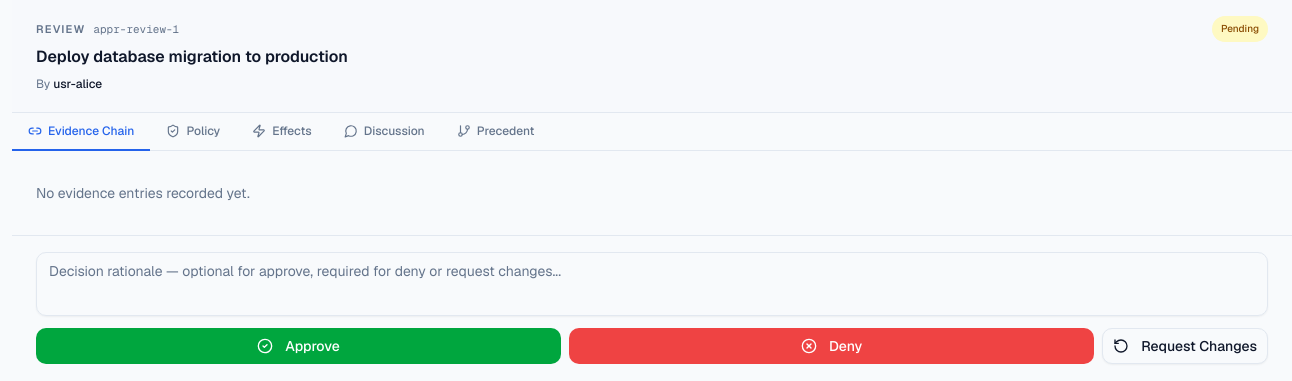
Test: ApprovalReviewPanel — tabs › switches to policy tab on click
Click the tab "Policy": (193, 132) [150,113,236,151]
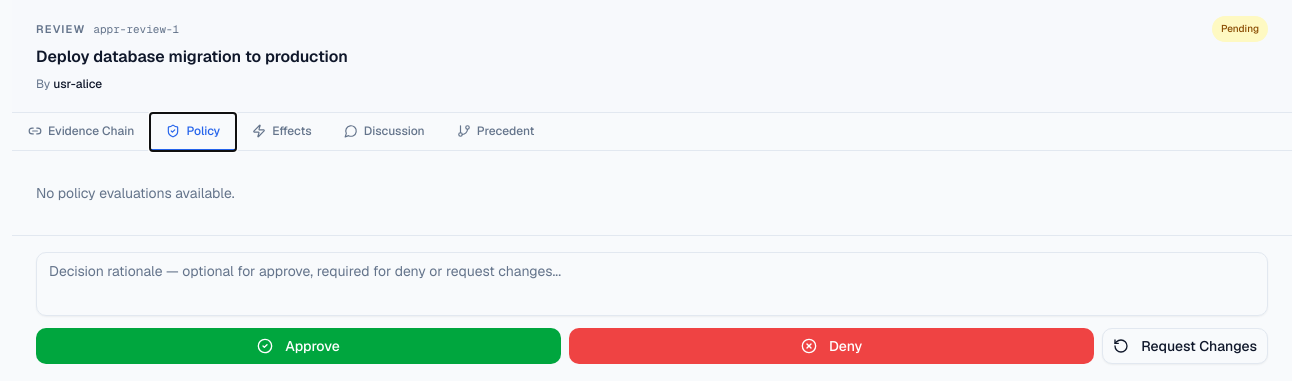
Now the text "No policy evaluations available." is shown, box [36,184,235,202]
